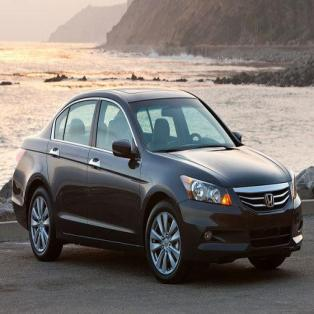Auto: (11, 89, 302, 284)
